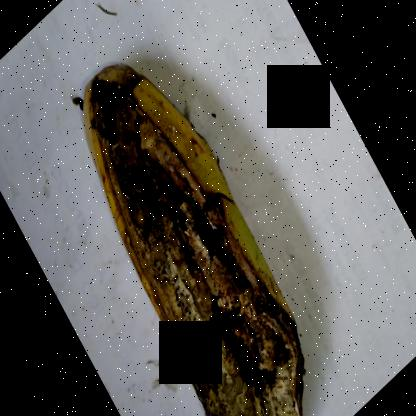rotten: (76, 42, 312, 415)
